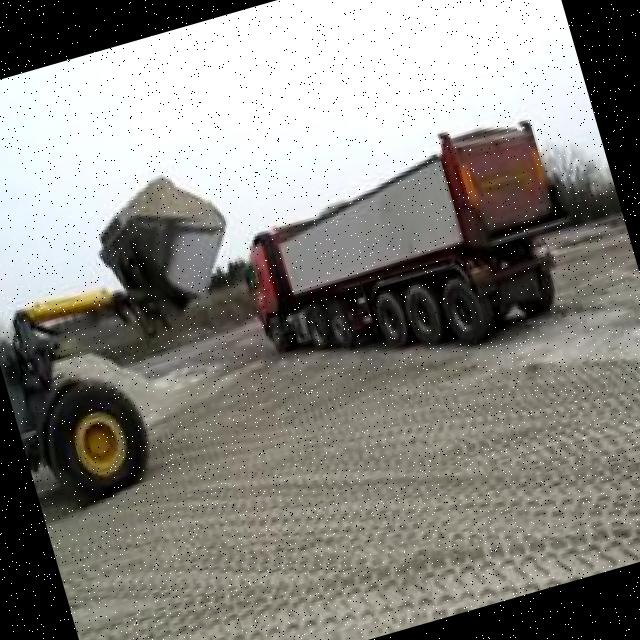Dump Truck: (217, 106, 584, 399)
Loader: (0, 186, 290, 518)
